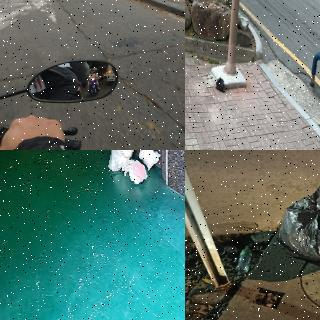Garbage: (277, 173, 320, 267), (109, 150, 137, 176), (125, 158, 149, 188), (139, 150, 163, 169), (214, 73, 228, 91)
